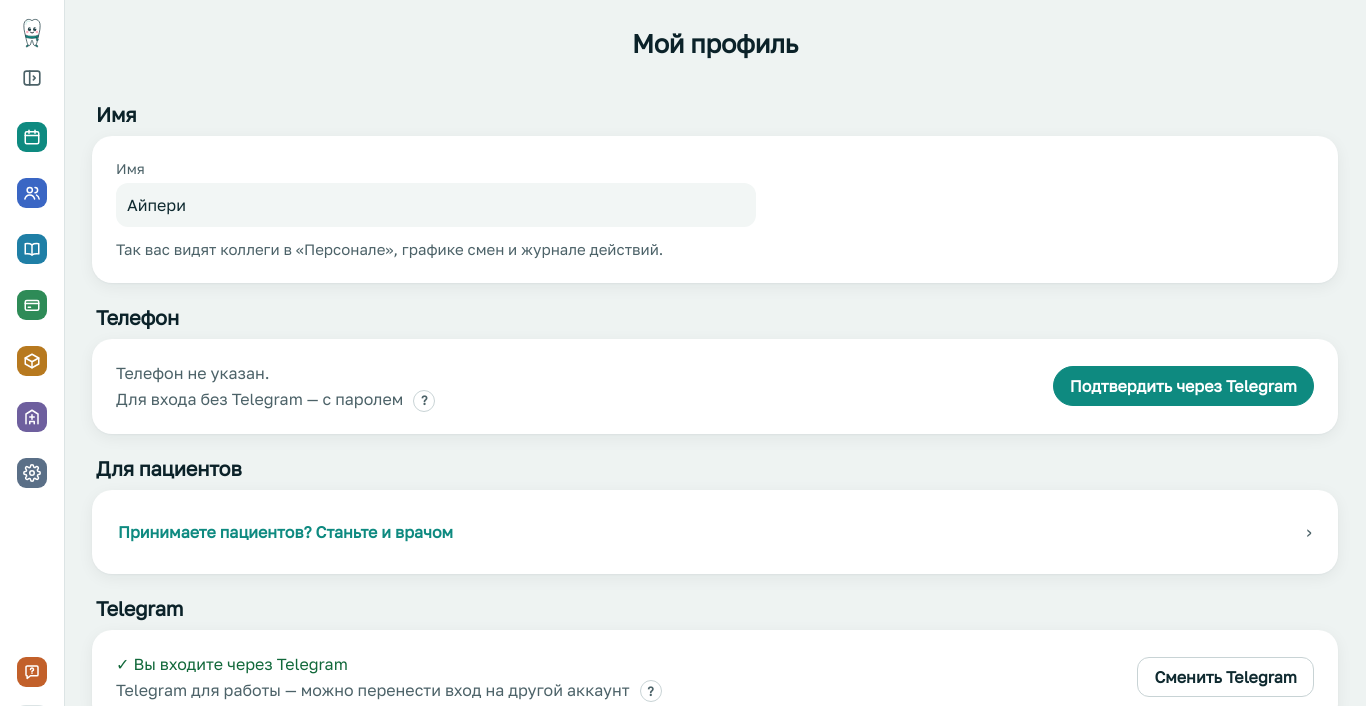
«Мой профиль» у регистратуры: сверху своё «Имя» — меняет сама, ниже «Телефон», «Логин и пароль» — в самом низу
Step 1. Replace the text in the field labelled "Имя" with "Айпери Исакова" → (436, 205), box [116,183,756,227]
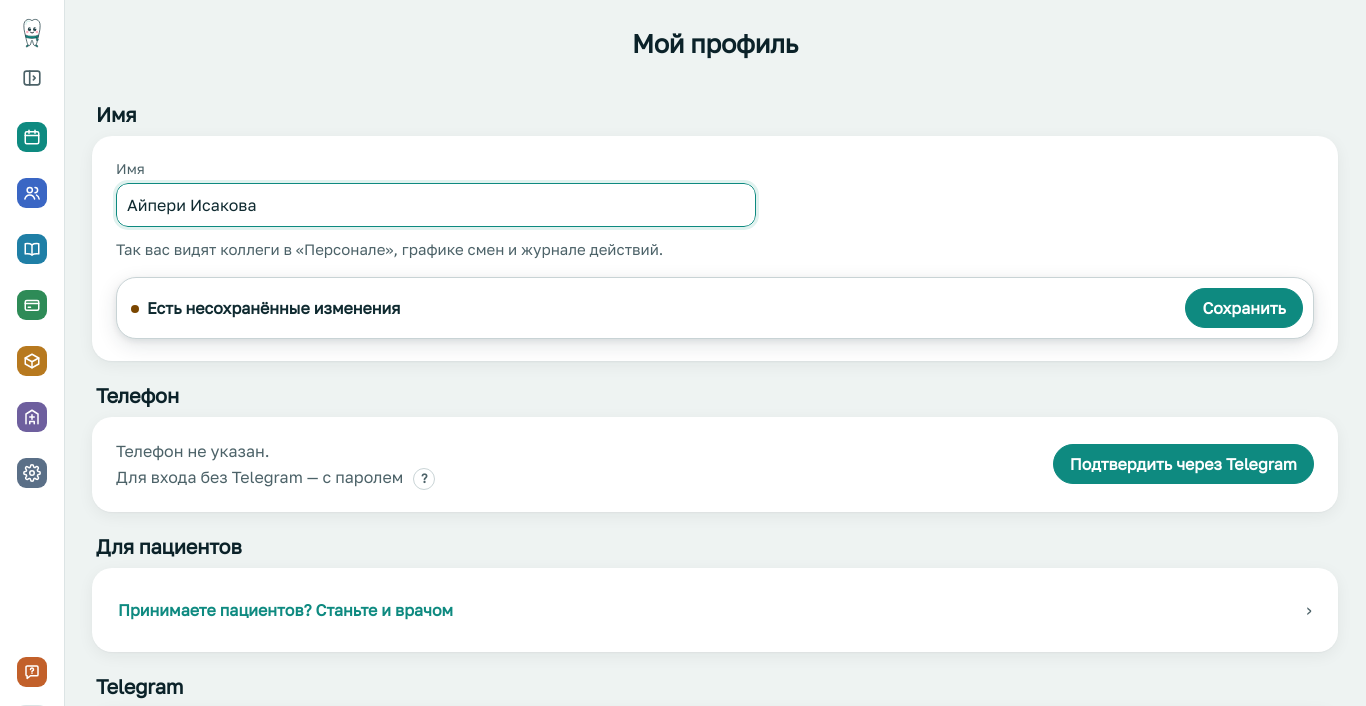
Step 2. Click the button "Сохранить" → click(1244, 308), box [1185,288,1303,328]
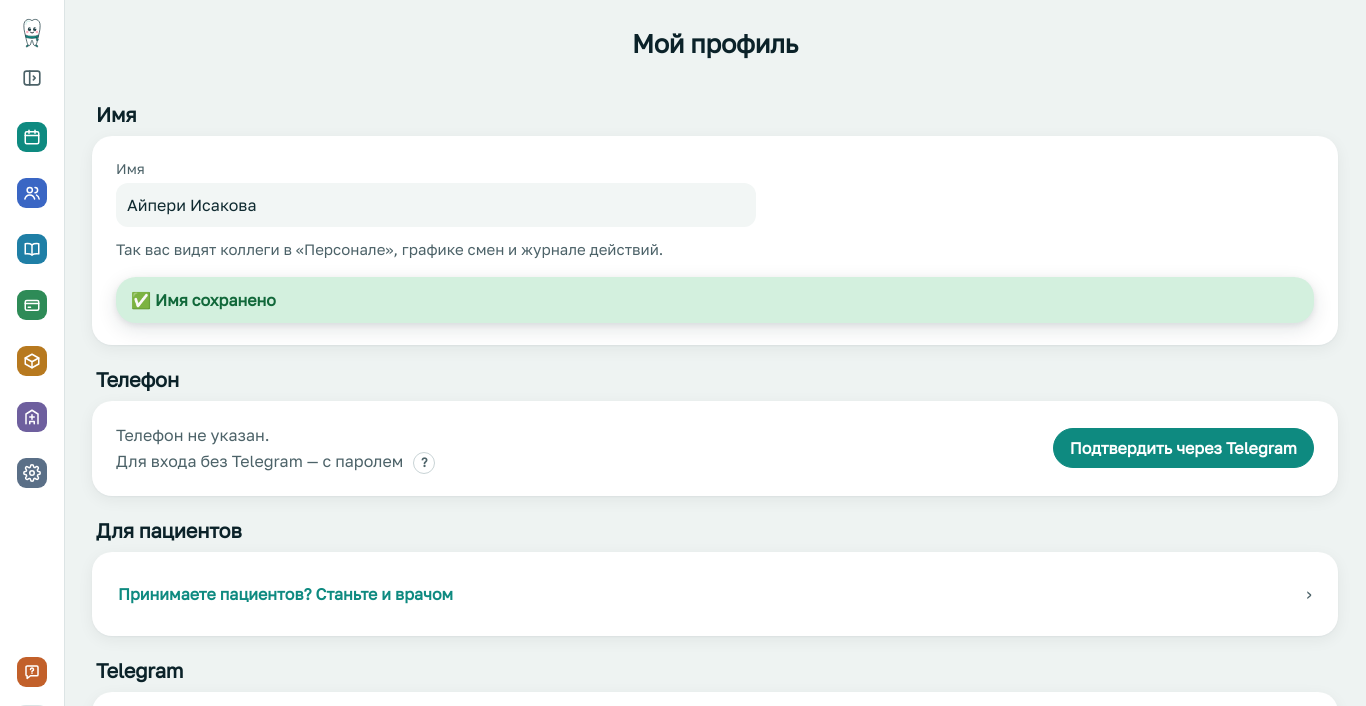
Expected: the text "Имя сохранено" is shown, [155,290,276,310]
